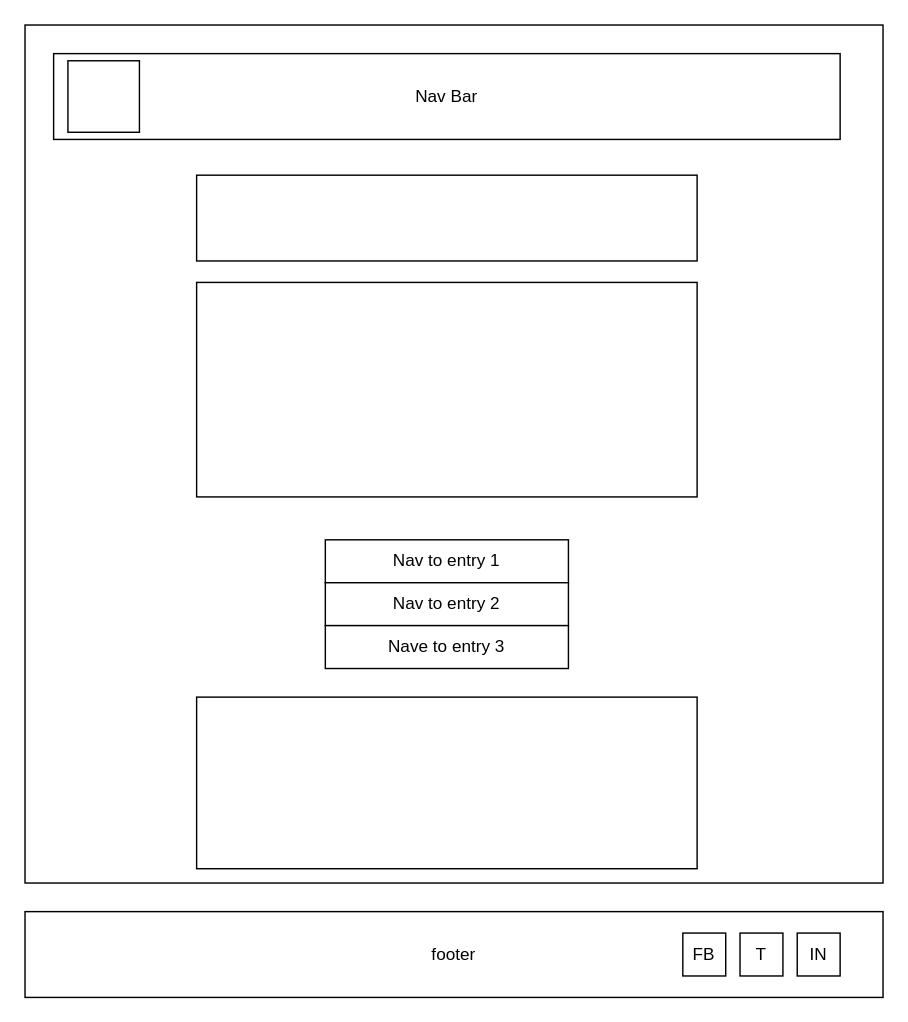
This 908x1022 diagram has some shape labels left out. The centre of each missing label's shape, as x and y in pixels:
"Blog" goes at pixel 446 217.
"Blog entries" goes at pixel 446 782.
"logo" goes at pixel 102 95.
"Photo" goes at pixel 446 389.
